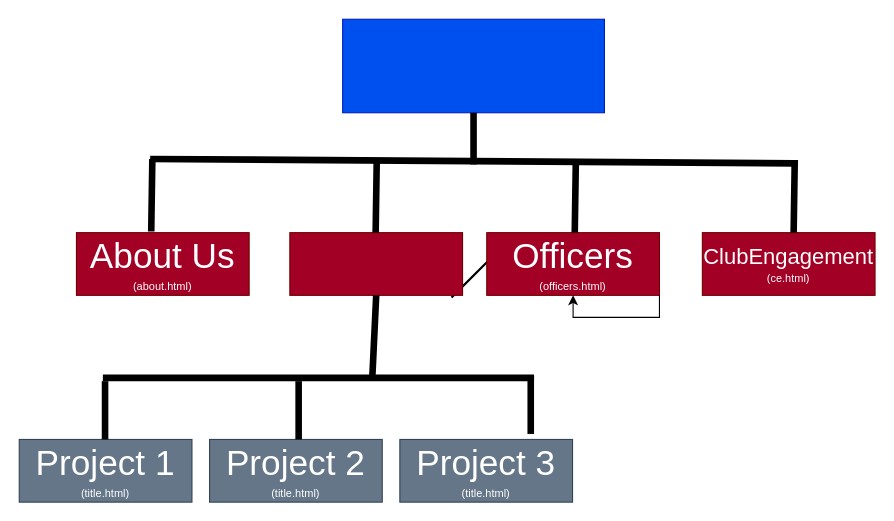
Image size: 894x521. Some labels were removed from this diagram. The shapes that lost their labels are listed below. From the top down, each one's centre as x and y in pixels, then its label:
At (473,65): "CLT Sports Analytics Club Home (index.html)".
At (376,263): "Projects (projects.html)".
